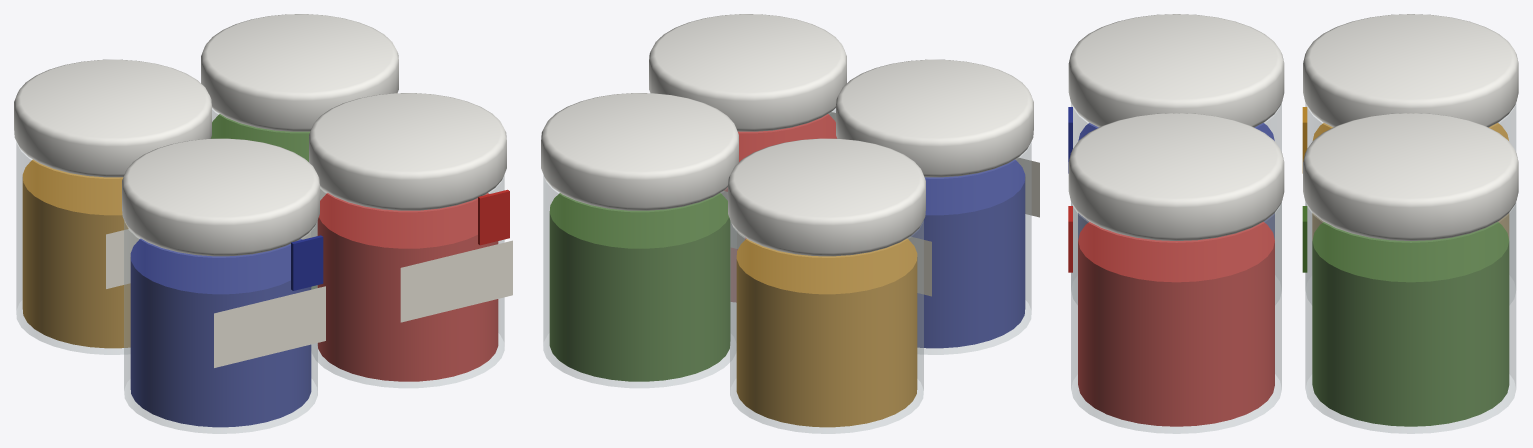
Rendered from herodesk-art-paint-jars.glb.
The picture shows the model from 3 angles, left to right: view 1: azimuth 30°, elevation 25°; view 2: azimuth 150°, elevation 25°; view 3: azimuth 270°, elevation 25°; orthographic projection. The views are drawn at different scales.
Parts seen in each view (by area): view 1: herodesk-art-paint-jars · mesh; view 2: herodesk-art-paint-jars · mesh; view 3: herodesk-art-paint-jars · mesh.
Part boxes in pixels (x1,y1,x2,y2): herodesk-art-paint-jars · mesh: (14,14,512,433); herodesk-art-paint-jars · mesh: (541,14,1039,433); herodesk-art-paint-jars · mesh: (1068,14,1518,433).
Bounding box in the file's own units: 0.096 × 0.055 × 0.0961.
